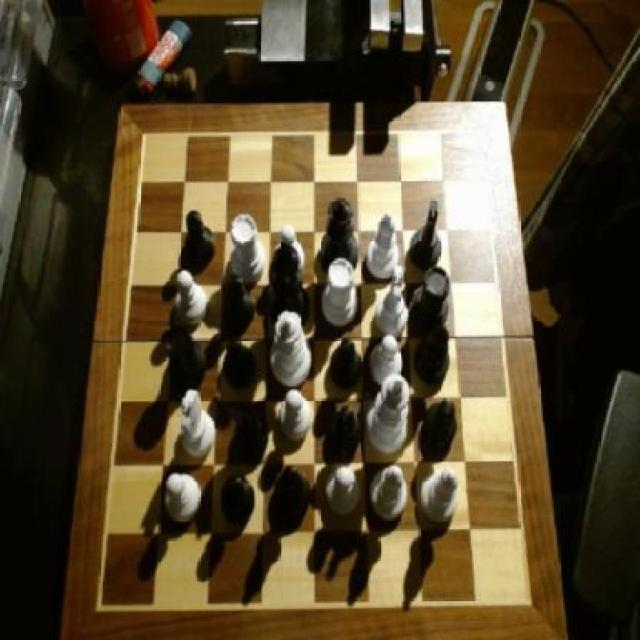bishop: (414, 326, 451, 386), (274, 464, 312, 520)
black-bishop: (269, 242, 312, 326)
black-king: (231, 397, 271, 461), (411, 197, 443, 270)
black-knight: (326, 406, 362, 466), (180, 212, 218, 268), (223, 334, 259, 389), (328, 335, 362, 390), (423, 396, 457, 450), (222, 474, 258, 525), (225, 276, 258, 324)
black-pawn: (318, 196, 359, 276)
black-queen: (163, 324, 208, 388), (410, 268, 452, 334)
black-rook: (420, 466, 462, 522), (366, 212, 399, 280), (372, 464, 410, 520)
white-bishop: (366, 376, 409, 456)
white-king: (177, 388, 216, 459), (377, 265, 411, 333)
white-knight: (164, 469, 203, 525), (323, 462, 360, 518), (278, 388, 314, 440), (174, 268, 208, 323), (371, 336, 403, 386), (277, 225, 305, 273)
white-pawn: (271, 311, 314, 386)
white-queen: (322, 255, 360, 327), (229, 214, 267, 282)
